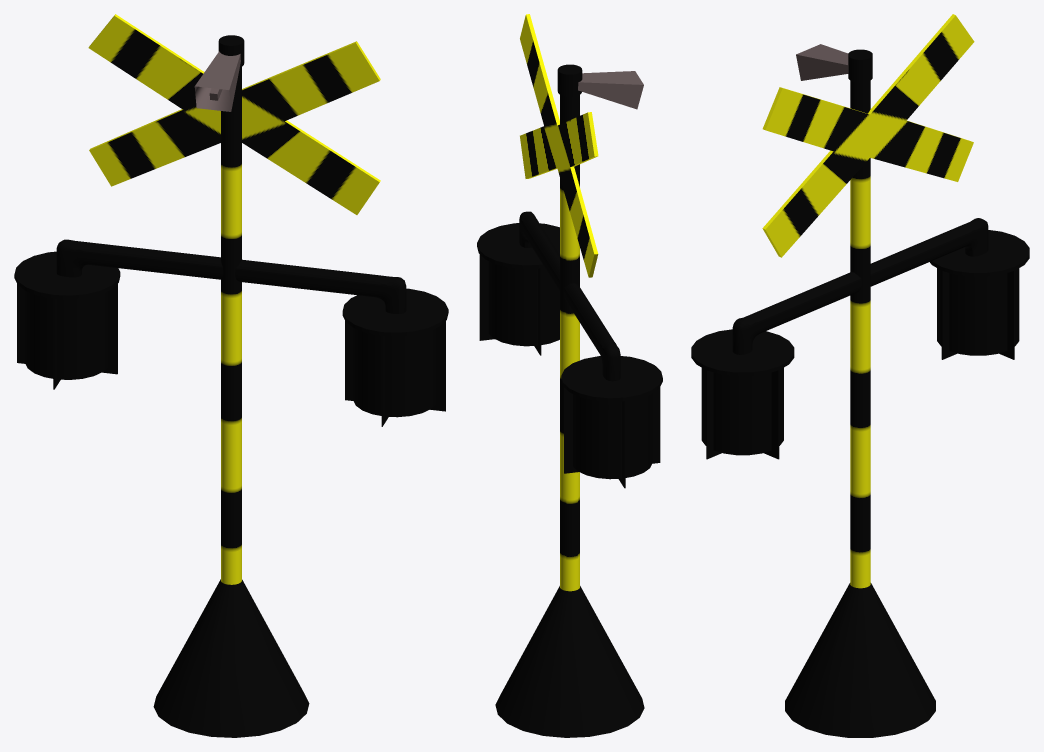
File: Keihouki_Color.fbx
The picture shows the model from 3 angles, left to right: view 1: azimuth 30°, elevation 25°; view 2: azimuth 150°, elevation 25°; view 3: azimuth 270°, elevation 25°; orthographic projection. The views are drawn at different scales.
Visible parts, largest first — view 1: polySurface421; view 2: polySurface421; view 3: polySurface421.
Boxes of the visible parts, left/top/right/bottom form: polySurface421: left=14, top=14, right=448, bottom=737; polySurface421: left=477, top=14, right=662, bottom=737; polySurface421: left=691, top=14, right=1029, bottom=737.
Size of the model in its own units: 163 by 349 by 163.
5 materials, 2 textured.
